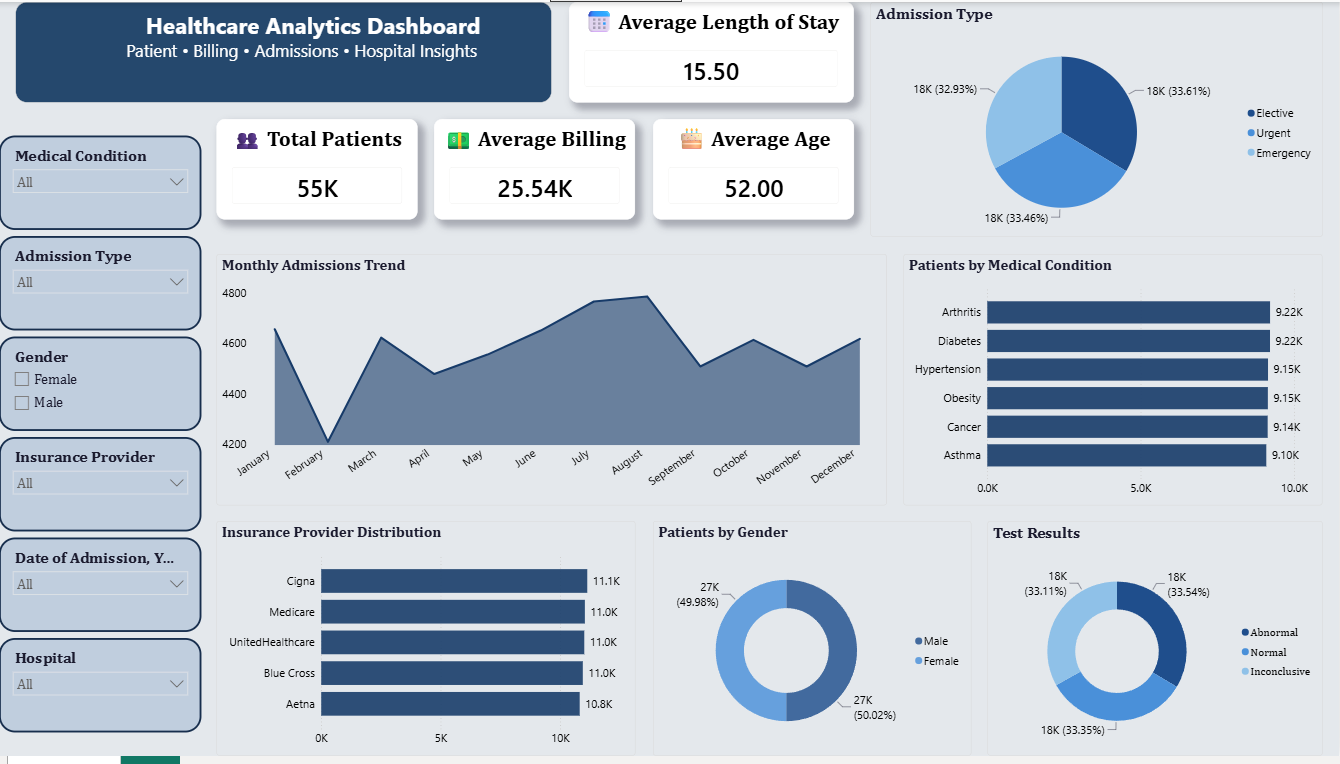

The dashboard page shown, as its layout file describes it:
{"tool":"powerbi","page":{"name":"Page 1","canvas":[1920,1080],"ordinal":0},"visuals":[{"type":"clusteredBarChart","title":"Patients by Medical Condition","fields":{"Category":["healthcare_dataset.Medical Condition"],"Y":["healthcare_dataset.Total Patients"]},"box":[1296,360,600,360],"z":0},{"type":"donutChart","title":"Patients by Gender","fields":{"Category":["healthcare_dataset.Gender"],"Y":["healthcare_dataset.Total Patients"]},"box":[936,744,456,336],"z":2},{"type":"clusteredBarChart","title":"Insurance Provider Distribution","fields":{"Category":["healthcare_dataset.Insurance Provider"],"Y":["healthcare_dataset.Total Patients"]},"box":[312,744,600,336],"z":3},{"type":"pieChart","title":"Admission Type","fields":{"Category":["healthcare_dataset.Admission Type"],"Y":["healthcare_dataset.Total Patients"]},"box":[1272,0,624,336],"z":4},{"type":"donutChart","title":"Test Results","fields":{"Y":["healthcare_dataset.Total Patients"],"Category":["healthcare_dataset.Test Results"]},"box":[1416,744,480,336],"z":5},{"type":"lineChart","title":"Monthly Admissions Trend","fields":{"Category":["healthcare_dataset.Date of Admission.Variation.Date Hierarchy.Month"],"Y":["healthcare_dataset.Total Patients"]},"box":[312,360,960,360],"z":6},{"type":"slicer","fields":{"Values":["healthcare_dataset.Gender"]},"box":[0,480,290,135],"z":12},{"type":"slicer","fields":{"Values":["healthcare_dataset.Date of Admission","healthcare_dataset.Date of Admission.Variation.Date Hierarchy.Year","healthcare_dataset.Date of Admission.Variation.Date Hierarchy.Month"]},"box":[0,768,290,135],"z":13},{"type":"slicer","fields":{"Values":["healthcare_dataset.Admission Type"]},"box":[0,336,290,135],"z":14},{"type":"slicer","fields":{"Values":["healthcare_dataset.Insurance Provider"]},"box":[0,624,290,135],"z":15},{"type":"slicer","fields":{"Values":["healthcare_dataset.Hospital"]},"box":[0,912,290,135],"z":16},{"type":"slicer","fields":{"Values":["healthcare_dataset.Medical Condition"]},"box":[0,192,290,135],"z":17},{"type":"textbox","box":[24,0,768,144],"z":18},{"type":"cardVisual","title":"👥 Total Patients","fields":{"Data":["healthcare_dataset.Total Patients"]},"box":[312,168,344,144],"z":19},{"type":"cardVisual","title":"📅 Average Length of Stay","fields":{"Data":["Avg(healthcare_dataset.Length of Stay)"]},"box":[816,0,408,144],"z":21},{"type":"cardVisual","title":"💵 Average Billing","fields":{"Data":["healthcare_dataset.Average Billing"]},"box":[664,168,288,144],"z":22},{"type":"cardVisual","title":"🎂 Average Age","fields":{"Data":["healthcare_dataset.Average Age"]},"box":[960,168,288,144],"z":24}]}

Visuals, with their boxes in screenshot pixels (x1, y1, x2, y2), scaled from the page's 1920x1080 canvas onto the 1340x764 screenshot:
"Patients by Medical Condition" clusteredBarChart: l=904, t=255, r=1323, b=509
"Patients by Gender" donutChart: l=653, t=526, r=972, b=763
"Insurance Provider Distribution" clusteredBarChart: l=218, t=526, r=636, b=763
"Admission Type" pieChart: l=888, t=0, r=1323, b=238
"Test Results" donutChart: l=988, t=526, r=1323, b=763
"Monthly Admissions Trend" lineChart: l=218, t=255, r=888, b=509
slicer - healthcare_dataset.Gender: l=0, t=340, r=202, b=435
slicer - healthcare_dataset.Date of Admission x healthcare_dataset.Date of Admission.Variation.Date Hierarchy.Year: l=0, t=543, r=202, b=639
slicer - healthcare_dataset.Admission Type: l=0, t=238, r=202, b=333
slicer - healthcare_dataset.Insurance Provider: l=0, t=441, r=202, b=537
slicer - healthcare_dataset.Hospital: l=0, t=645, r=202, b=741
slicer - healthcare_dataset.Medical Condition: l=0, t=136, r=202, b=231
textbox: l=17, t=0, r=553, b=102
"👥 Total Patients" cardVisual: l=218, t=119, r=458, b=221
"📅 Average Length of Stay" cardVisual: l=570, t=0, r=854, b=102
"💵 Average Billing" cardVisual: l=463, t=119, r=664, b=221
"🎂 Average Age" cardVisual: l=670, t=119, r=871, b=221
